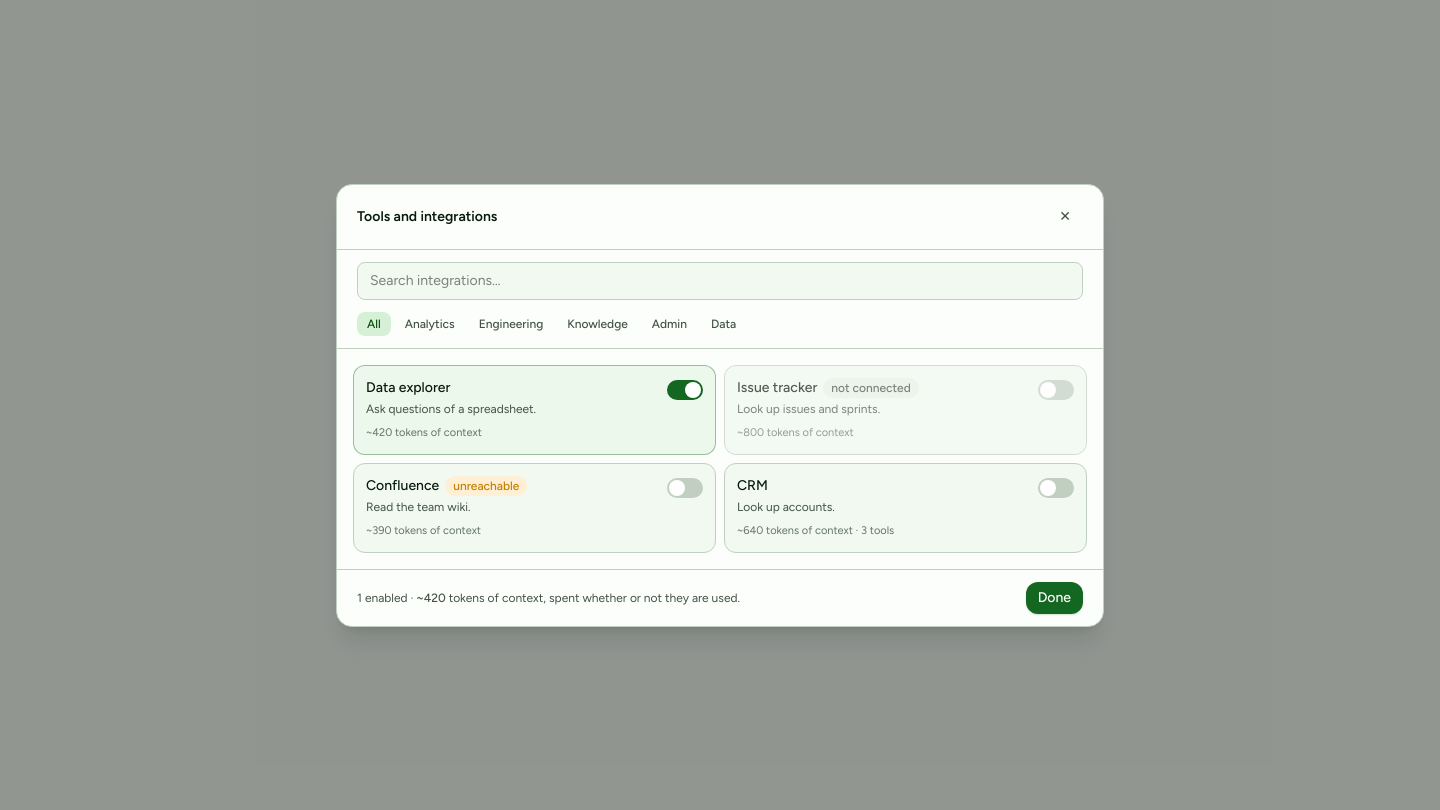
Test: ToolsModal › filters by category
expect the text "Data explorer" is shown: met, box left=366, top=378, right=450, bottom=398
Click the button "Engineering": (511, 324) left=469, top=312, right=553, bottom=336
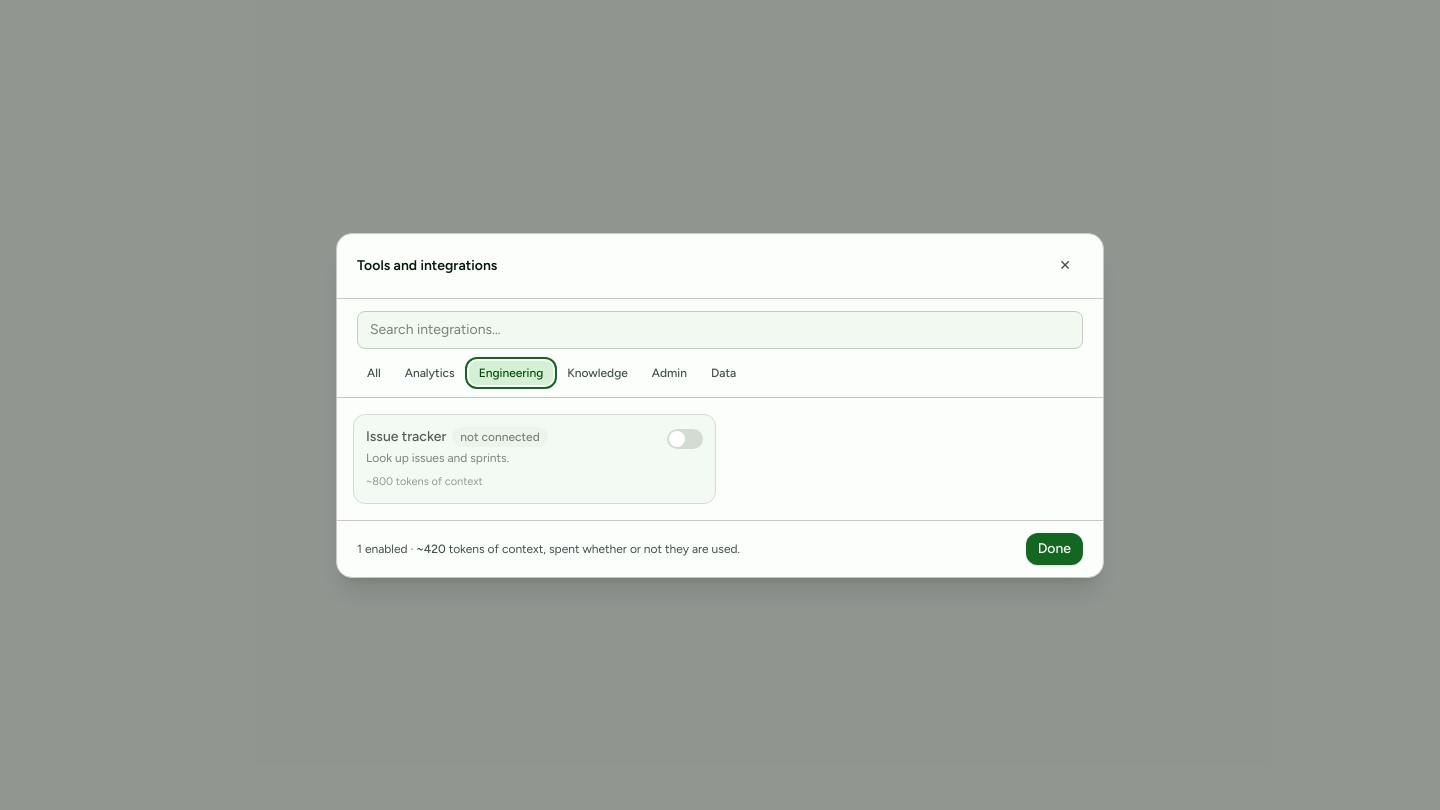
expect the text "Issue tracker" is shown: met, box left=366, top=426, right=446, bottom=446
expect the text "Data explorer" is gone: met
